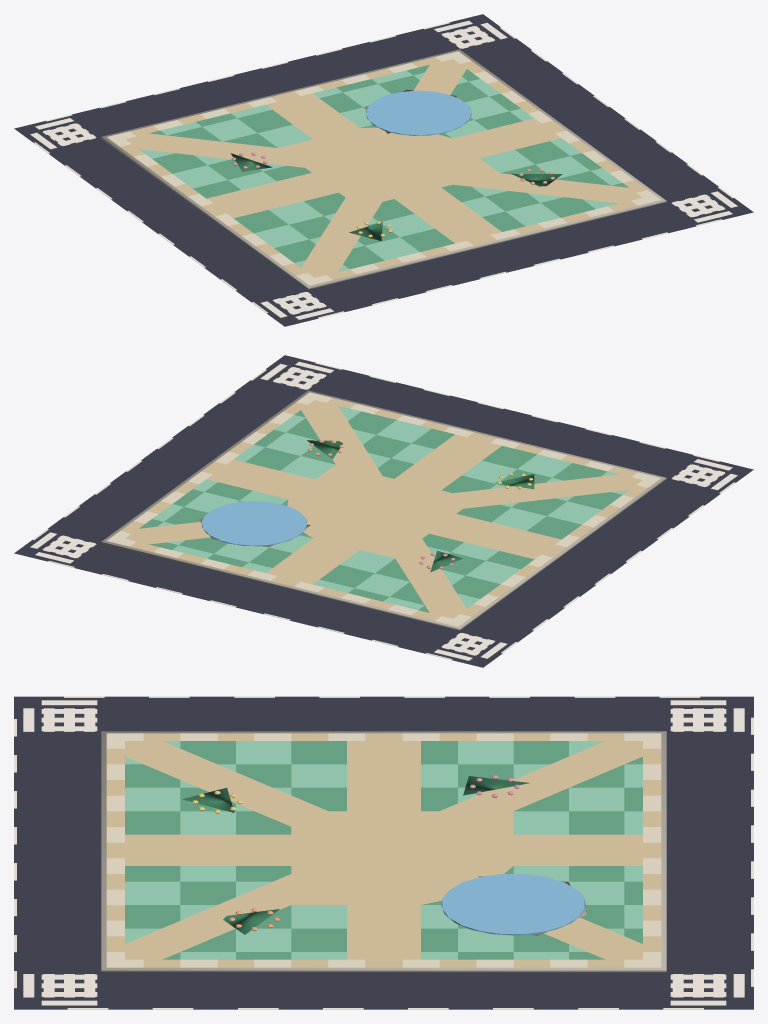
File: tile_park.glb
The picture shows the model from 3 angles, top to bottom: view 1: azimuth 30°, elevation 25°; view 2: azimuth 150°, elevation 25°; view 3: azimuth 270°, elevation 25°; orthographic projection. The views are drawn at different scales.
Parts seen in each view (by area): view 1: tile_park; view 2: tile_park; view 3: tile_park.
Part boxes in pixels (x1,y1,x2,y2): tile_park: (14, 14, 753, 326); tile_park: (14, 355, 753, 667); tile_park: (14, 696, 753, 1009).
Size of the model in its own units: 40 by 0.3027 by 40.
1 material, 1 textured.
